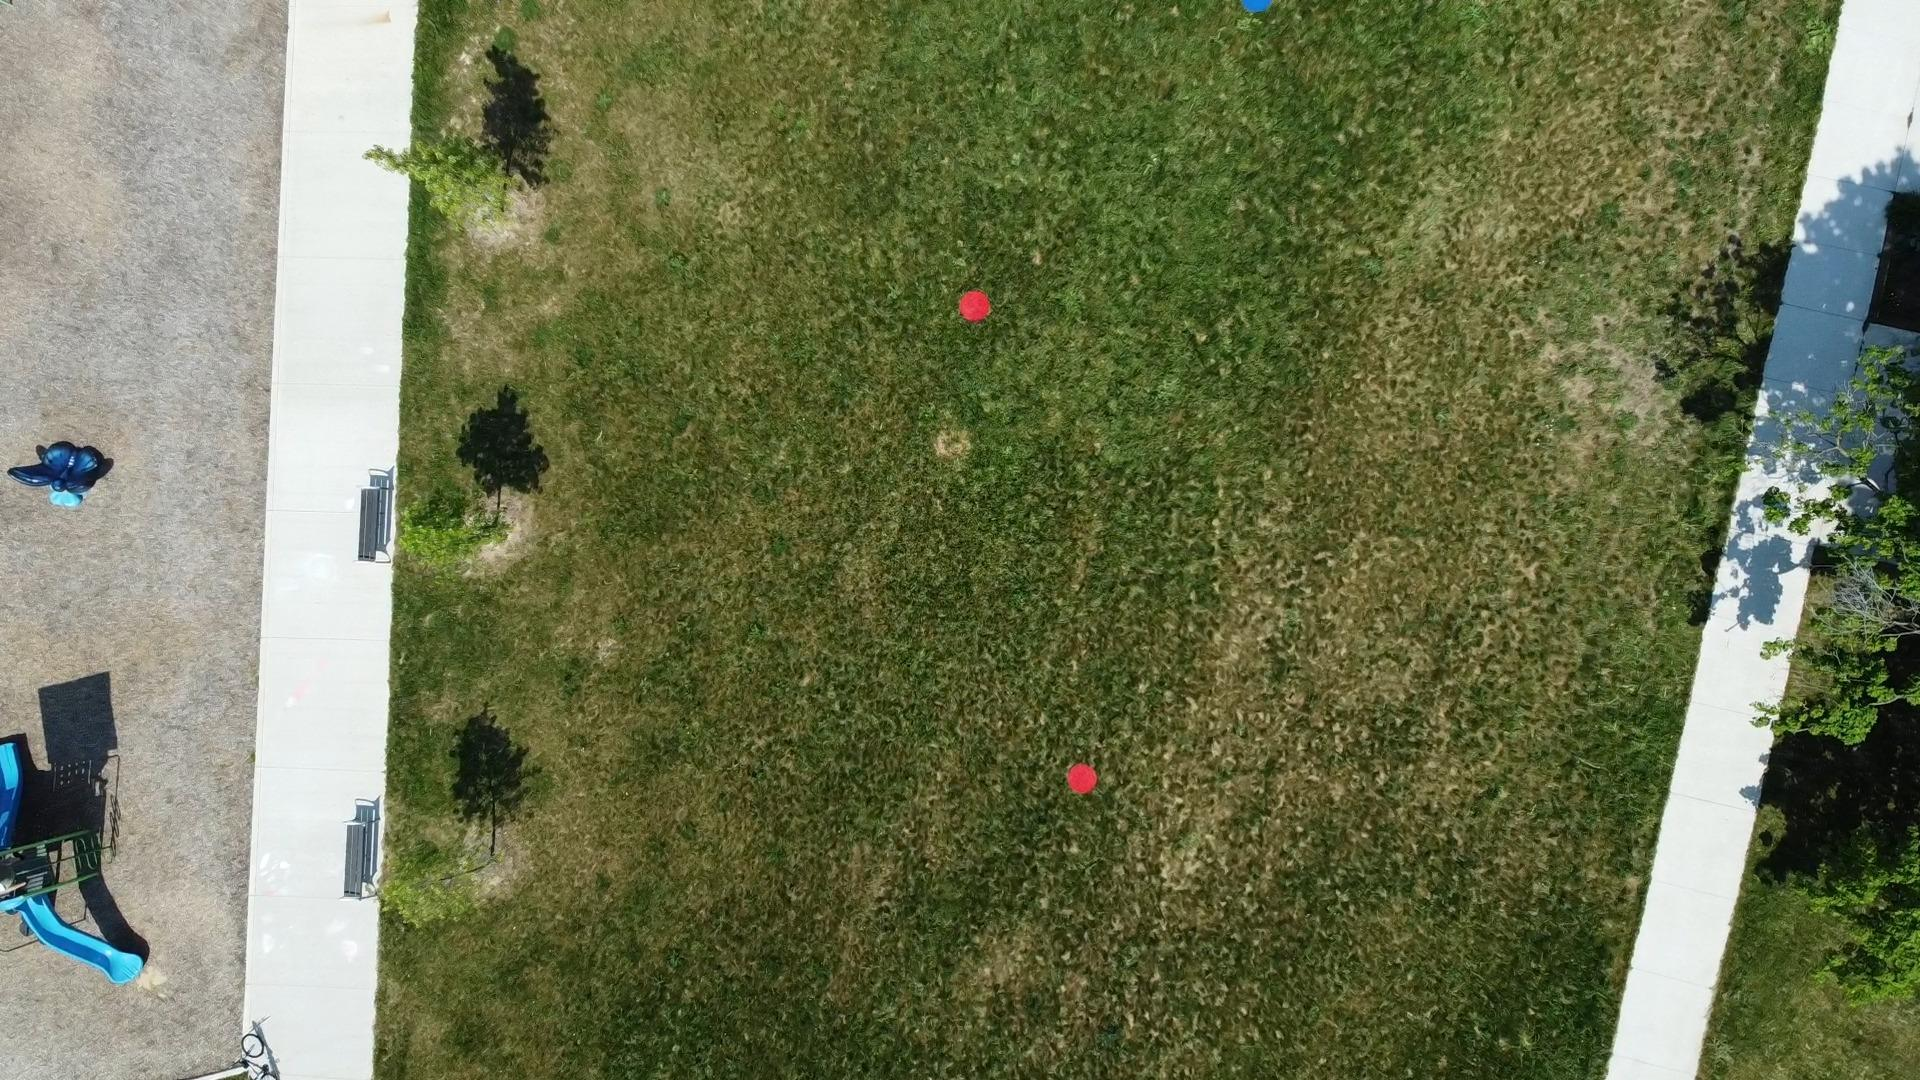Blue: (1238, 0, 1275, 15)
Red: (956, 287, 993, 324), (1065, 764, 1101, 795)
